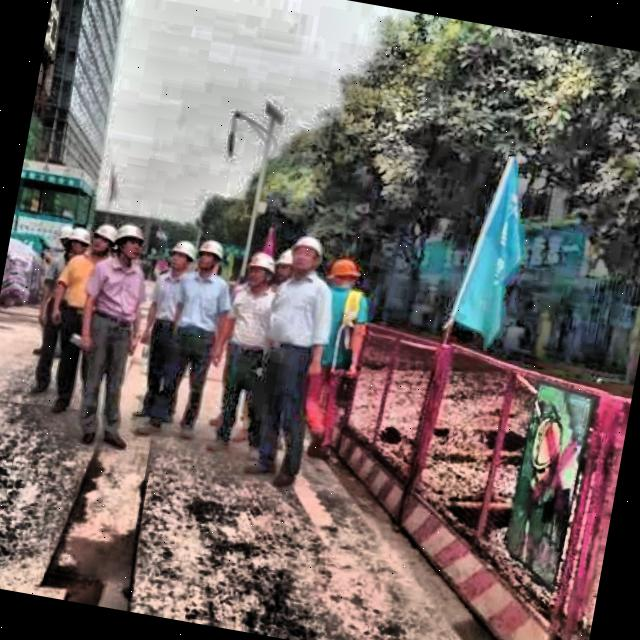helmet: (108, 214, 152, 271), (239, 242, 282, 300), (284, 230, 327, 282), (321, 248, 364, 298), (156, 232, 200, 280), (191, 234, 228, 286), (86, 216, 118, 266), (65, 220, 96, 261)
